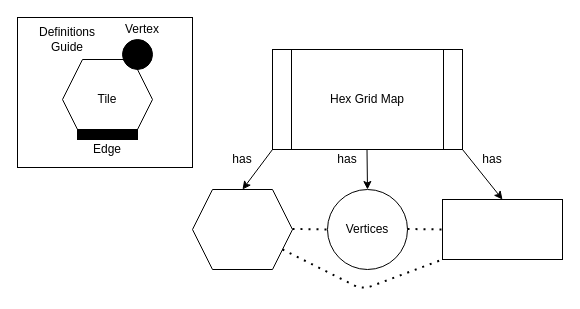
This 580x309 diagram has some shape labels left out. Each missing label, with the centre of its shape:
"Edges" belongs at (502,229).
"Tiles" belongs at (242,229).
